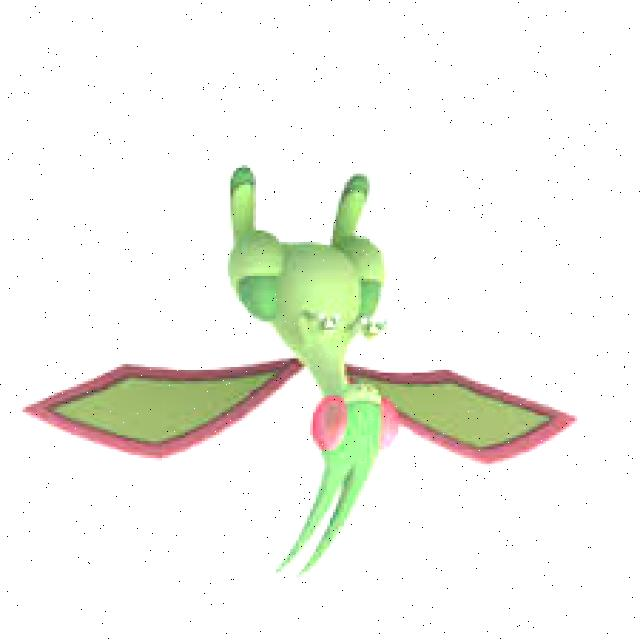flygon: (22, 132, 578, 583)
